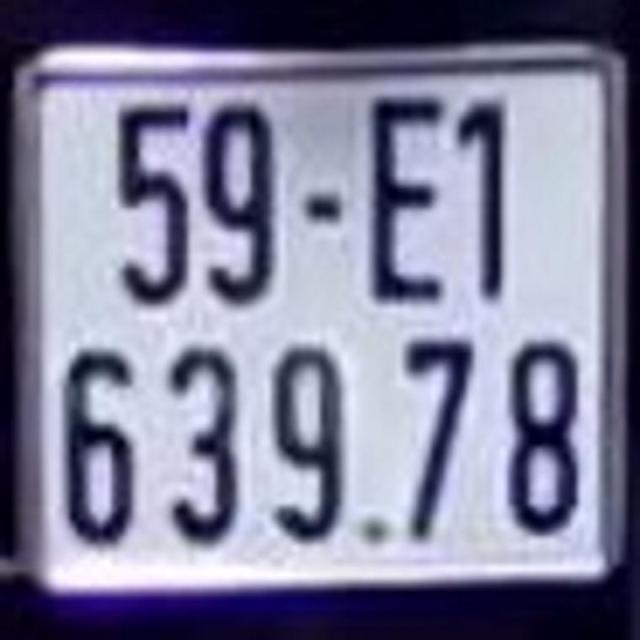1: (454, 89, 518, 305)
3: (160, 337, 242, 545)
5: (113, 98, 194, 312)
6: (55, 338, 138, 549)
7: (392, 329, 474, 537)
8: (501, 330, 587, 536)
9: (262, 336, 348, 545), (198, 98, 280, 313)
E: (366, 89, 451, 306)
